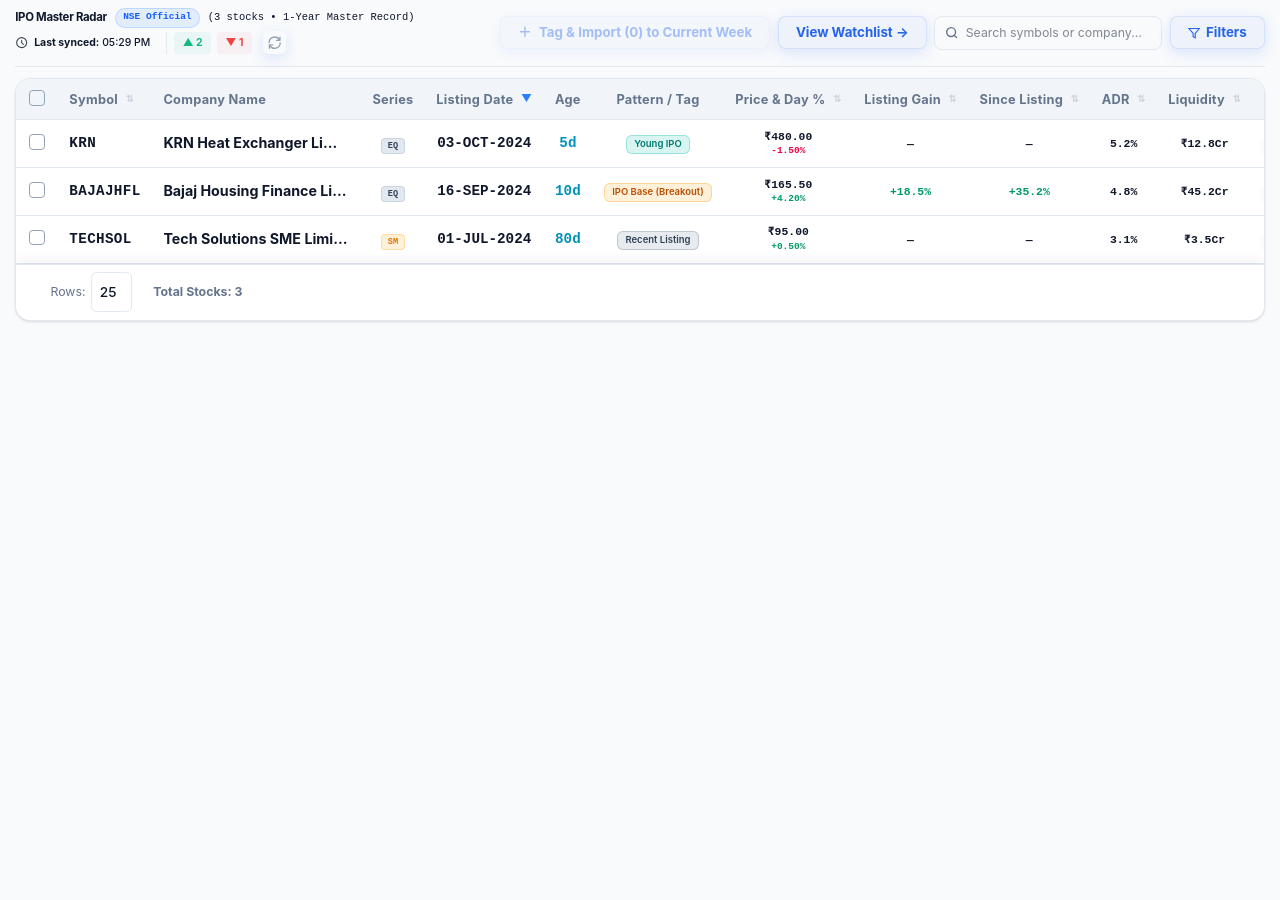
Test: ScreenerView › filters by ADR Volatility criteria via free-form input in filter drawer
Check: the text "BAJAJHFL" is shown, box [58, 168, 152, 216]
Click the button "Filters" at point(1217, 33), box [1170, 16, 1265, 49]
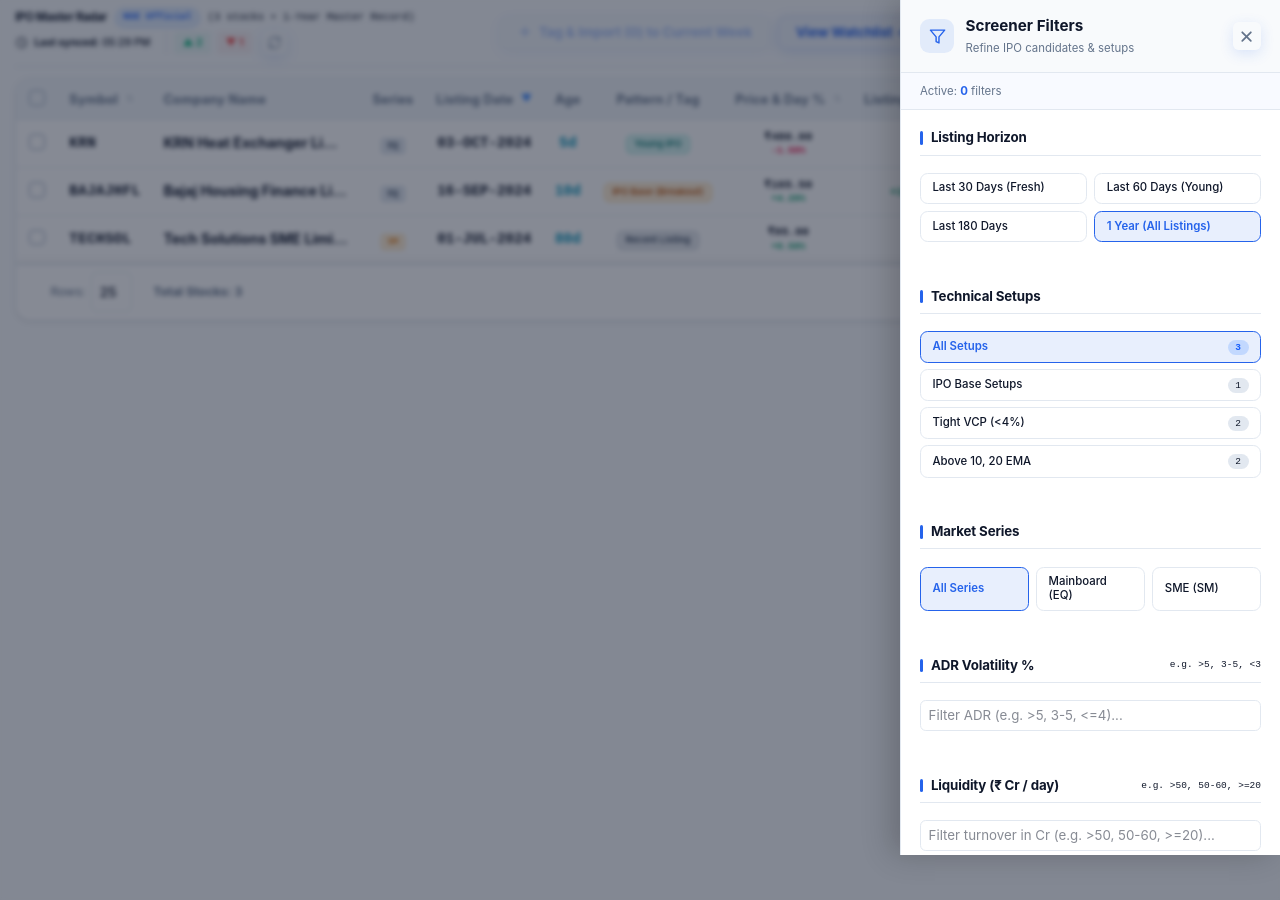
Type "> 5" into the field with placeholder "Filter ADR (e.g. >5, 3-5, <=4)..." at point(1090, 716), box [920, 700, 1261, 731]
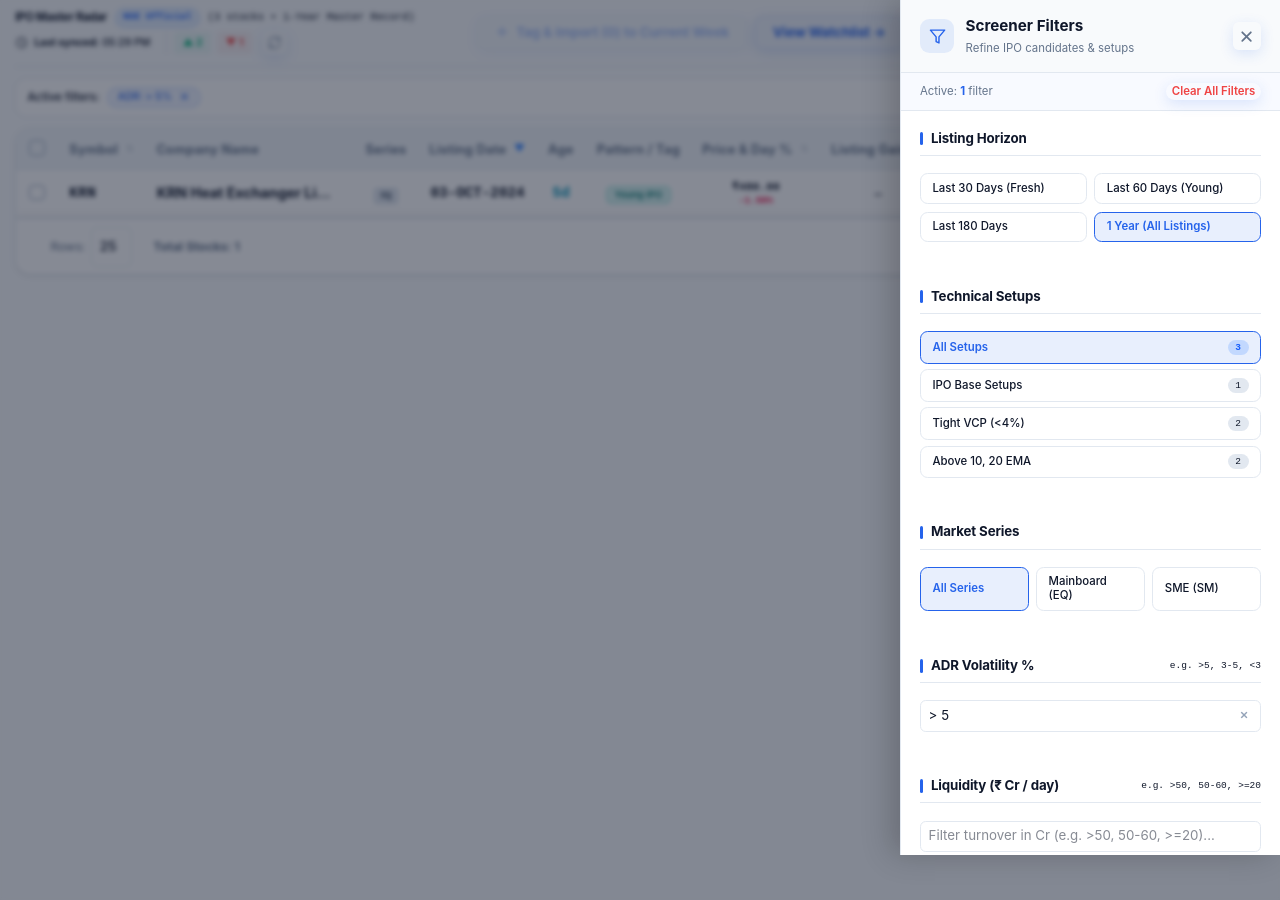
Check: the text "KRN" is shown, box [58, 170, 145, 218]
Check: the text "BAJAJHFL" is gone
Check: the text "TECHSOL" is gone
Replace the text in the field with placeholder "Filter ADR (e.g. >5, 3-5, <=4)..." with "4-5" at point(1090, 716), box [920, 700, 1261, 732]
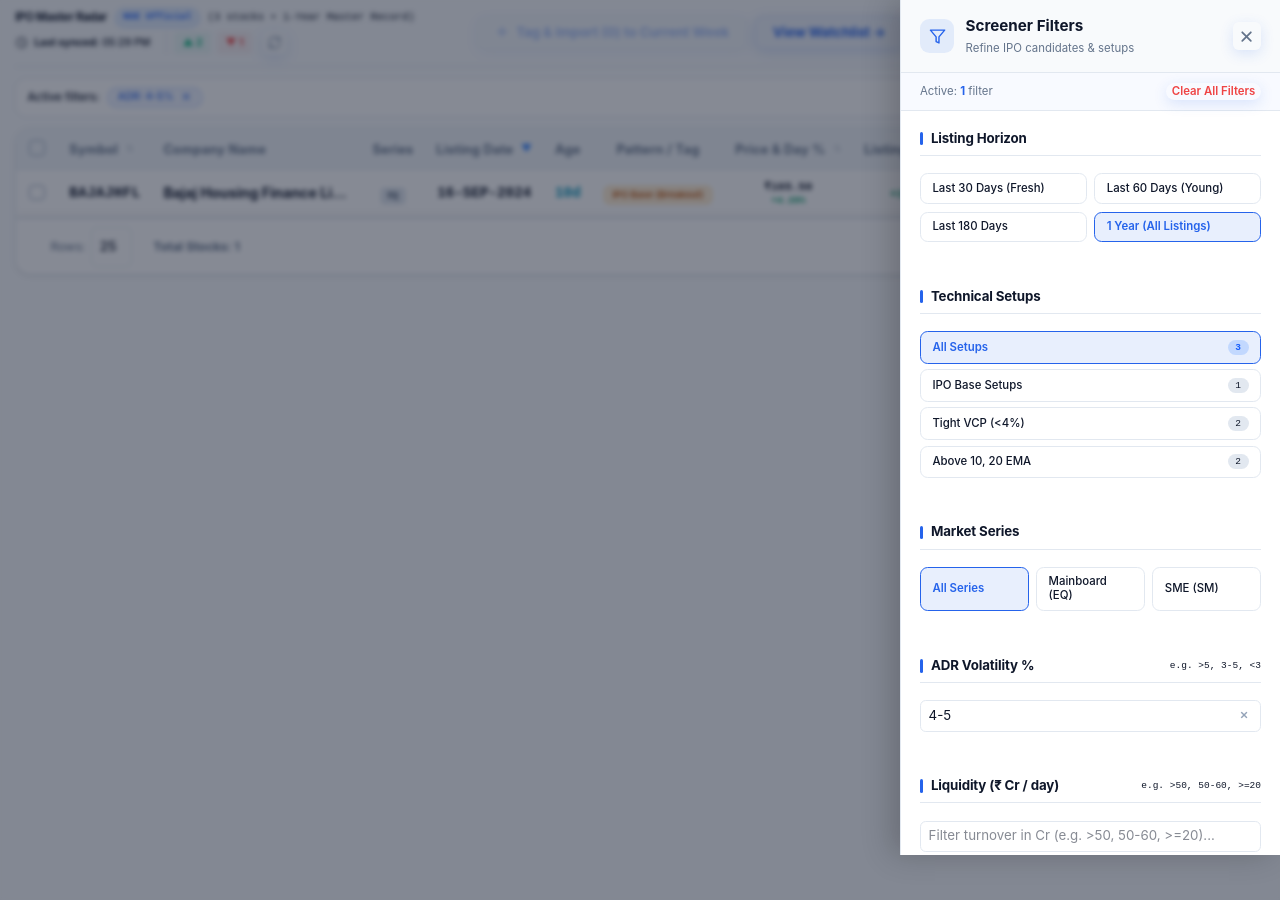
Check: the text "TECHSOL" is not shown
Check: the text "BAJAJHFL" is shown, box [58, 170, 152, 218]
Check: the text "KRN" is gone
